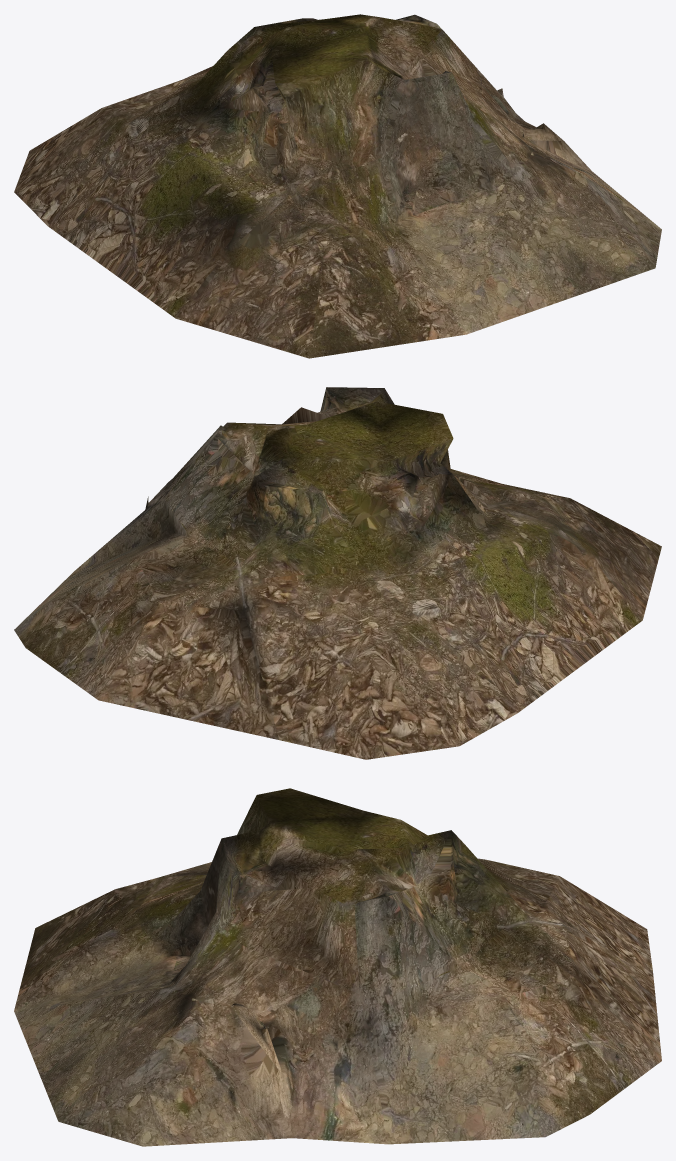
Rendered from tree_stump_01.glb.
3 views of the same model, one above another, from view 1: azimuth 30°, elevation 25°; view 2: azimuth 150°, elevation 25°; view 3: azimuth 270°, elevation 25° (orthographic). The views are drawn at different scales.
Parts seen in each view (by area): view 1: tree_stump_01; view 2: tree_stump_01; view 3: tree_stump_01.
Boxes of the visible parts, x1=… form: tree_stump_01: x1=14, y1=14, x2=661, y2=358; tree_stump_01: x1=14, y1=387, x2=661, y2=759; tree_stump_01: x1=14, y1=788, x2=661, y2=1146.
Size of the model in its own units: 1.42 by 0.54 by 1.59.
1 material, 1 textured.
